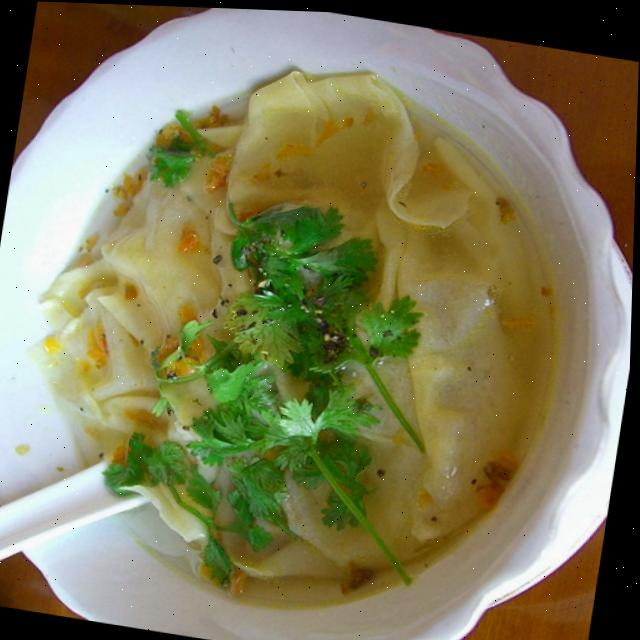汤锅炖物: (0, 16, 640, 640)
